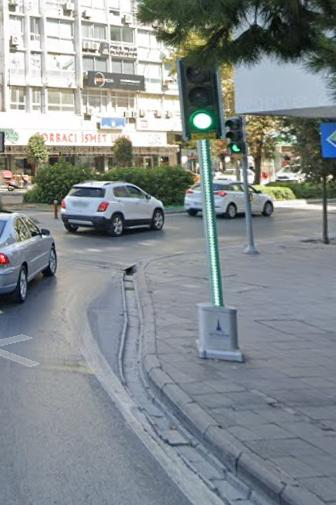greenlight: (181, 60, 222, 141), (227, 113, 247, 157)
